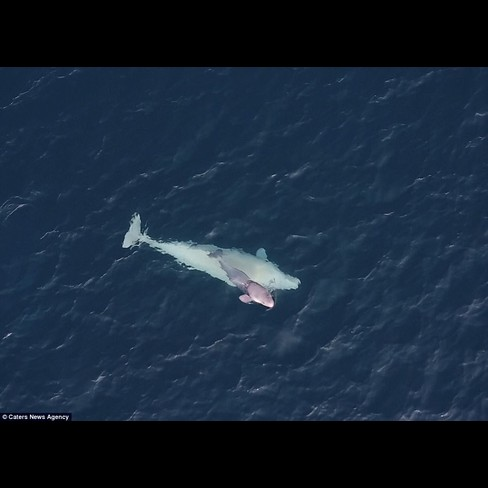beluga: (113, 207, 308, 300), (206, 244, 278, 312)
